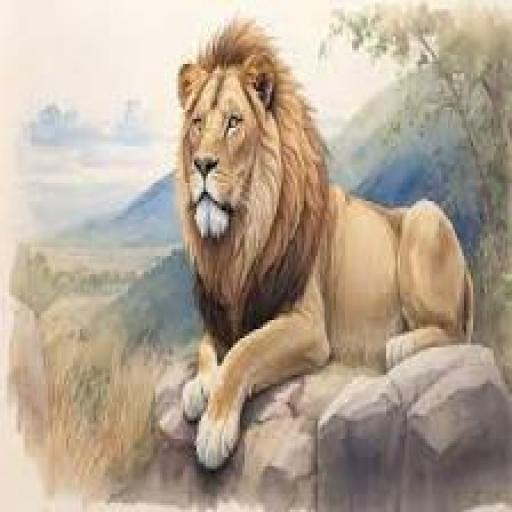lion: (151, 2, 499, 479)
